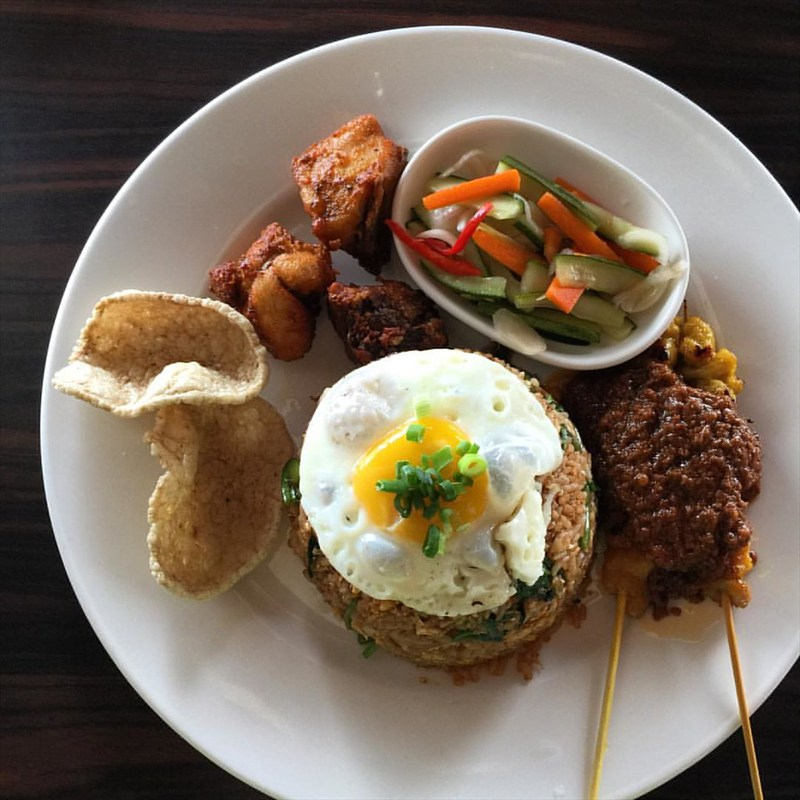Nasi Goreng: (52, 99, 713, 675)
